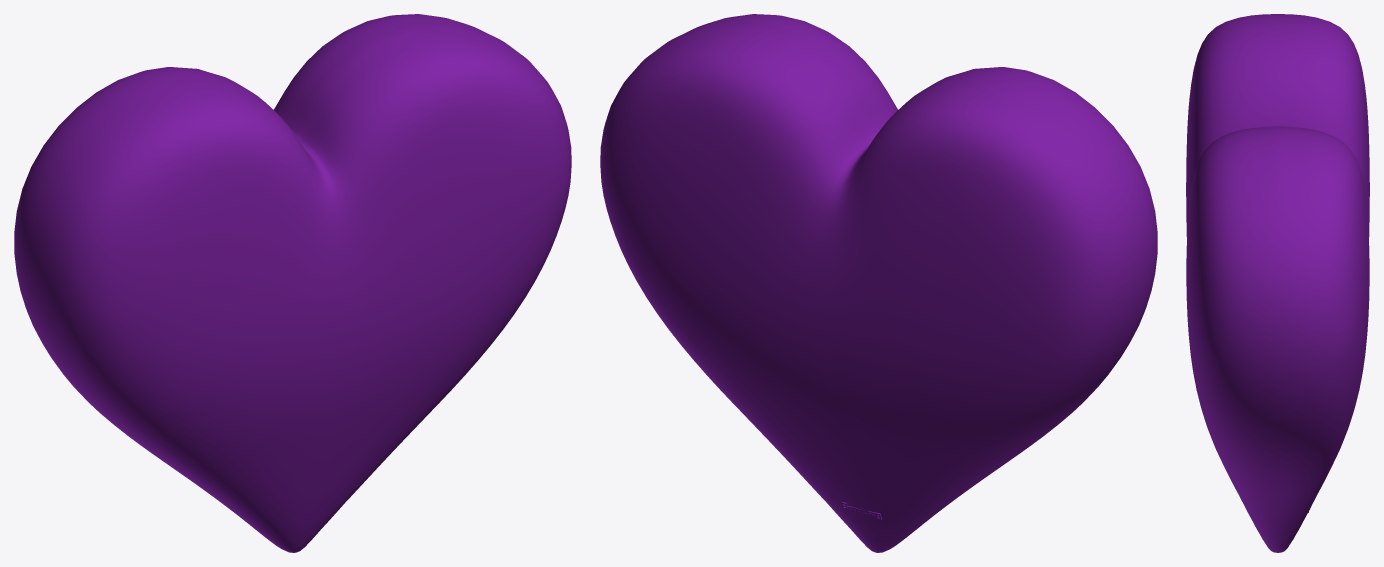
The model's file is purple_heart.gltf.
3 views of the same model, side by side, from view 1: azimuth 30°, elevation 25°; view 2: azimuth 150°, elevation 25°; view 3: azimuth 270°, elevation 25° (orthographic). The views are drawn at different scales.
Parts seen in each view (by area): view 1: hfdjkslfjkds.023; view 2: hfdjkslfjkds.023; view 3: hfdjkslfjkds.023.
Part boxes in pixels (<box>): hfdjkslfjkds.023: <box>14,14,571,552</box>; hfdjkslfjkds.023: <box>600,14,1157,552</box>; hfdjkslfjkds.023: <box>1186,14,1369,552</box>.
Bounding box in the file's own units: 1.86 × 1.68 × 0.5956.
Materials: 1 (1 with a texture image).
